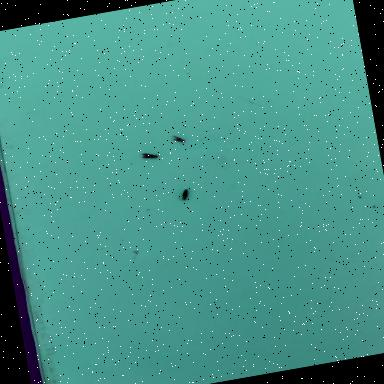pbw: (165, 130, 190, 148), (174, 185, 194, 204), (138, 148, 164, 162)
